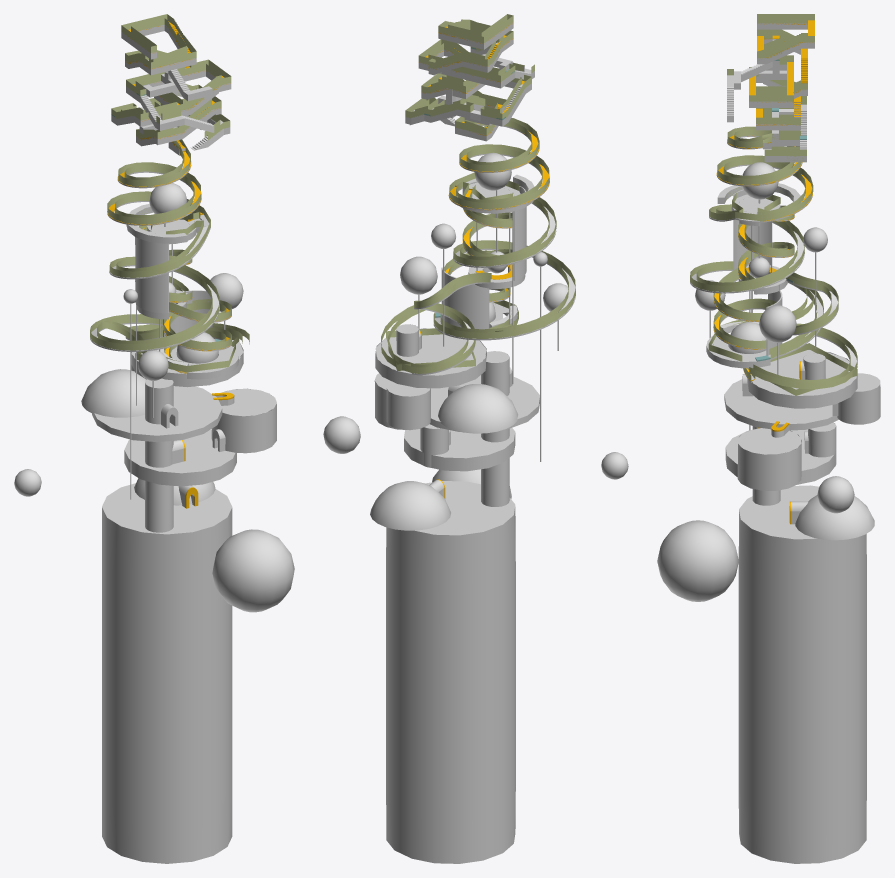
Rendered from path.glb.
The picture shows the model from 3 angles, left to right: view 1: azimuth 30°, elevation 25°; view 2: azimuth 150°, elevation 25°; view 3: azimuth 270°, elevation 25°; orthographic projection.
Visible parts, largest first — view 1: base, boundary, disappear, path; view 2: base, boundary, path, disappear; view 3: base, boundary, path, disappear.
Boxes of the visible parts, x1=… form: base: x1=14, y1=24, x2=294, y2=863; boundary: x1=90, y1=14, x2=249, y2=372; disappear: x1=140, y1=69, x2=223, y2=365; path: x1=107, y1=21, x2=231, y2=373; base: x1=323, y1=22, x2=628, y2=863; boundary: x1=381, y1=14, x2=575, y2=373; path: x1=418, y1=22, x2=549, y2=301; disappear: x1=410, y1=54, x2=531, y2=327; base: x1=657, y1=23, x2=880, y2=863; boundary: x1=690, y1=14, x2=857, y2=395; path: x1=713, y1=20, x2=814, y2=380; disappear: x1=719, y1=62, x2=806, y2=333.
Size of the model in its own units: 44.13 by 126 by 31.84.
